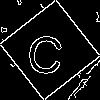C: (25, 25, 66, 76)
